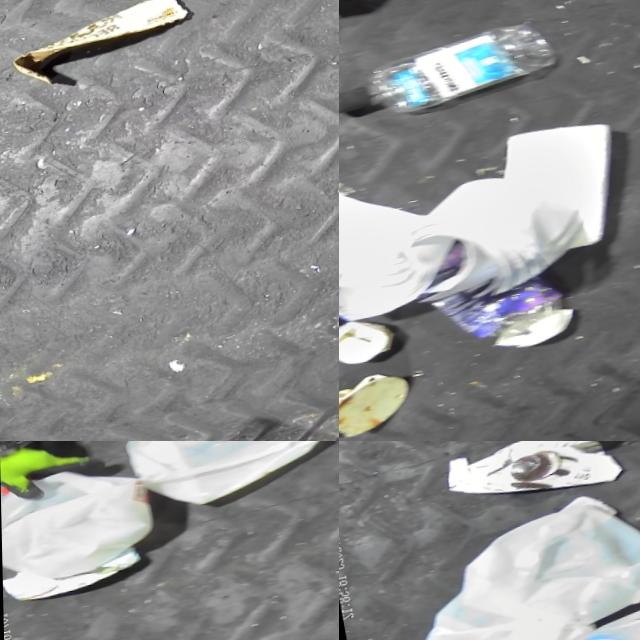milk_jug: (393, 163, 593, 319), (443, 494, 640, 640), (0, 454, 160, 594), (121, 441, 339, 519), (403, 572, 598, 640)
plastic_bottle: (339, 21, 558, 132)
